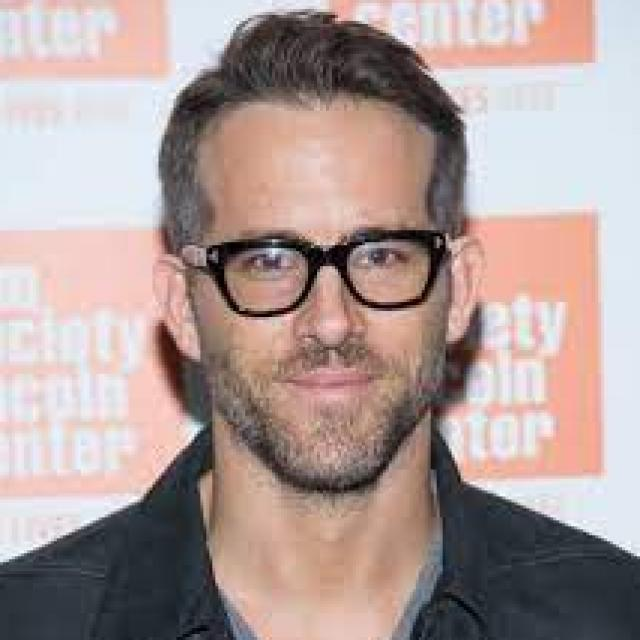Glasses: (176, 228, 449, 324)
